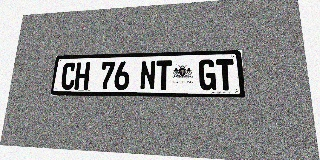6: (114, 61, 130, 90)
7: (99, 62, 115, 90)
C: (60, 62, 77, 90)
G: (199, 59, 216, 90)
H: (74, 62, 90, 90)
N: (140, 61, 156, 90)
T: (216, 59, 235, 90), (156, 60, 172, 90)
